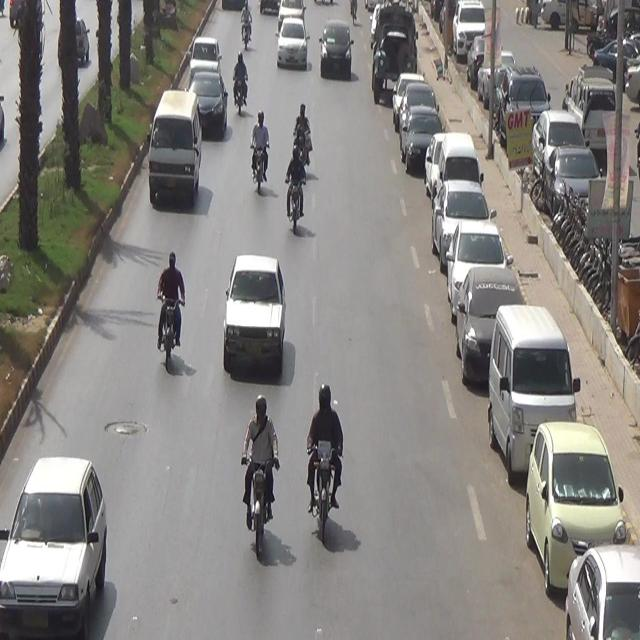car: (0, 447, 116, 636), (510, 422, 628, 594), (478, 302, 577, 469), (540, 535, 640, 640), (450, 263, 533, 384), (224, 255, 292, 375), (146, 84, 204, 215), (440, 219, 520, 298), (423, 176, 491, 243), (427, 127, 479, 210), (185, 72, 228, 134), (403, 104, 441, 172), (273, 20, 313, 78), (390, 70, 431, 126), (400, 77, 435, 135), (320, 18, 351, 82), (192, 30, 222, 88)
motorbike: (306, 374, 348, 572), (238, 396, 282, 573), (154, 230, 188, 390), (283, 152, 307, 243), (250, 113, 275, 199), (290, 96, 316, 170), (230, 49, 254, 117), (237, 10, 257, 54)
truck: (367, 0, 416, 99)
